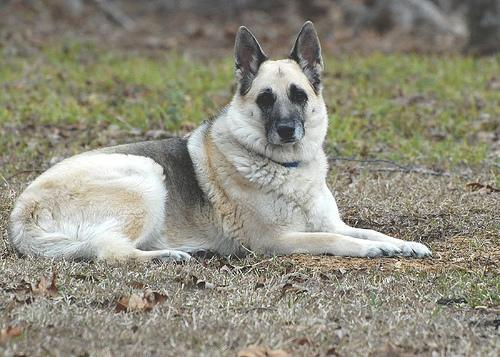German_shepherd: (10, 20, 432, 268)
